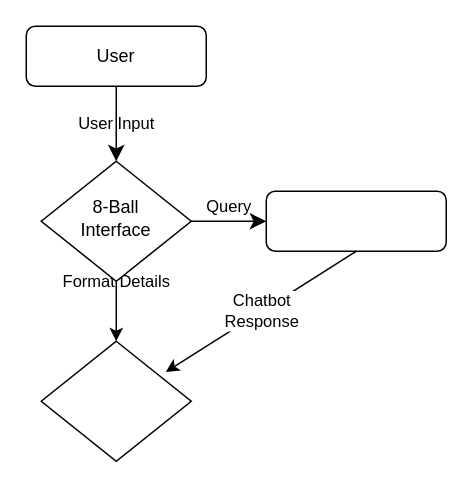
Image size: 473x488. Some labels were removed from this diagram. The box of each missing label's shape, as (x1, y1, x2, y2) in pixels:
8-Ball Display: (40, 340, 191, 461)
Chatbot API: (265, 190, 446, 251)
